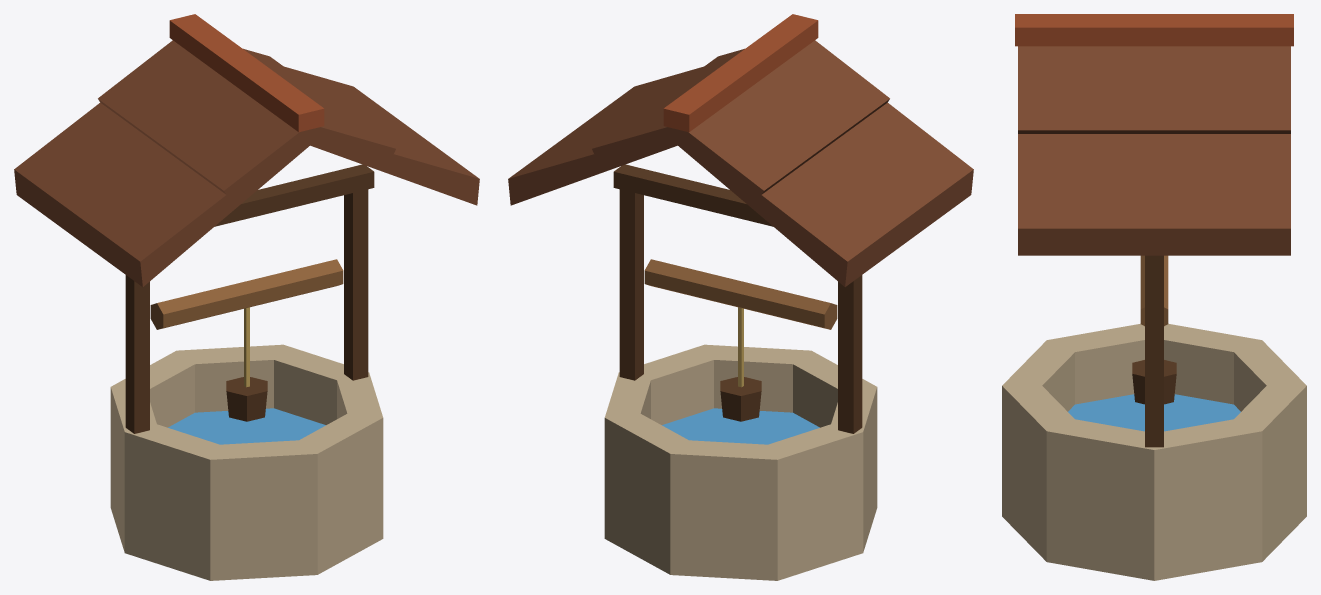
File: Well.fbx
3 renders of one model, left to right at view 1: azimuth 30°, elevation 25°; view 2: azimuth 150°, elevation 25°; view 3: azimuth 270°, elevation 25°, orthographic. The views are drawn at different scales.
Visible parts, largest first — view 1: Well; view 2: Well; view 3: Well.
Part boxes in pixels (x1,y1,x2,y2): Well: [14, 14, 479, 580]; Well: [508, 14, 973, 580]; Well: [1002, 14, 1306, 580].
Bounding box in the file's own units: 2.64 × 3.41 × 1.9.
